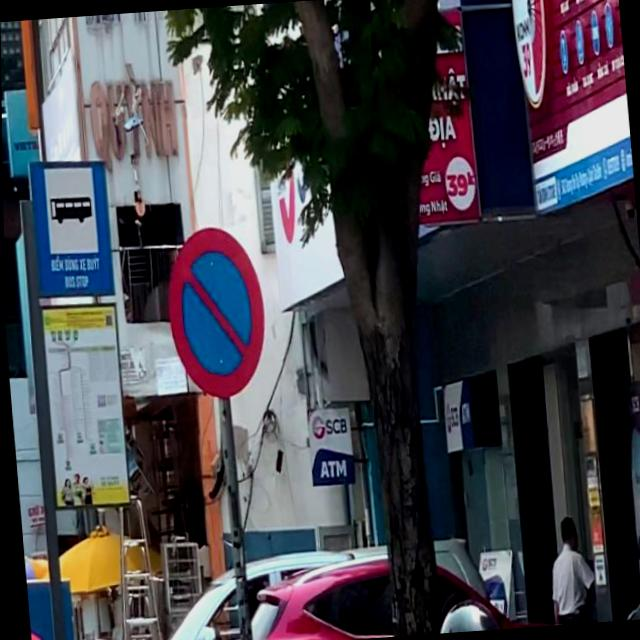Ben xe buyt: (37, 159, 106, 299)
Cam do xe: (161, 224, 270, 402)
